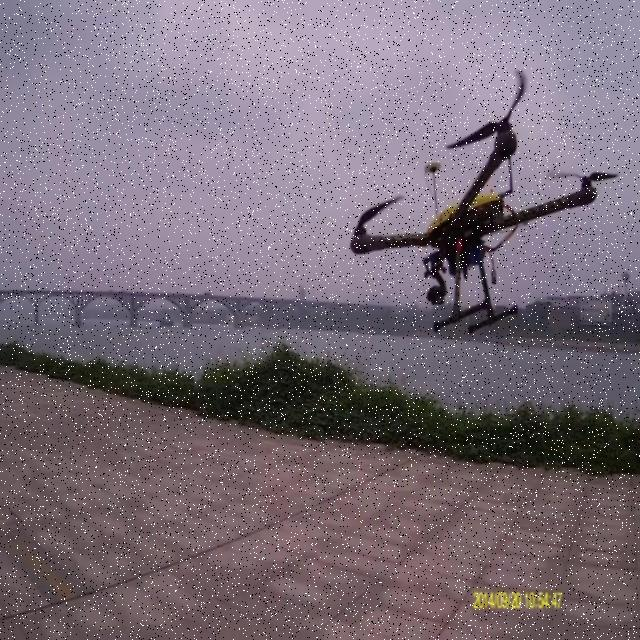UAV: (351, 75, 601, 332)
